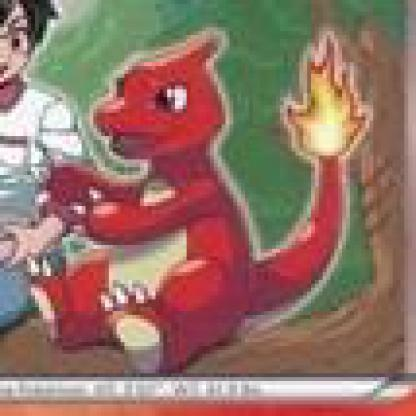Charmeleon: (1, 1, 413, 413)
